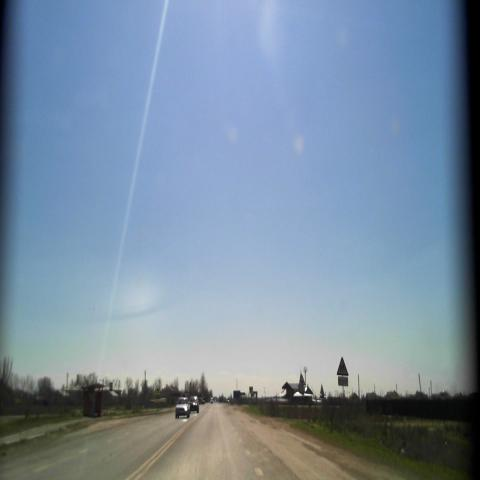1_23: (336, 356, 349, 376)
1_26: (298, 372, 306, 385)
